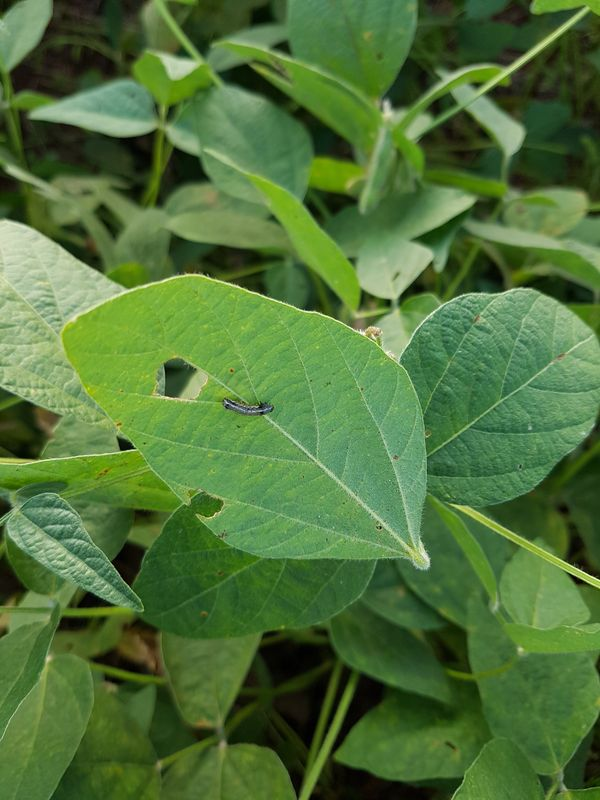Spodoptera_albula: (210, 385, 283, 434)
